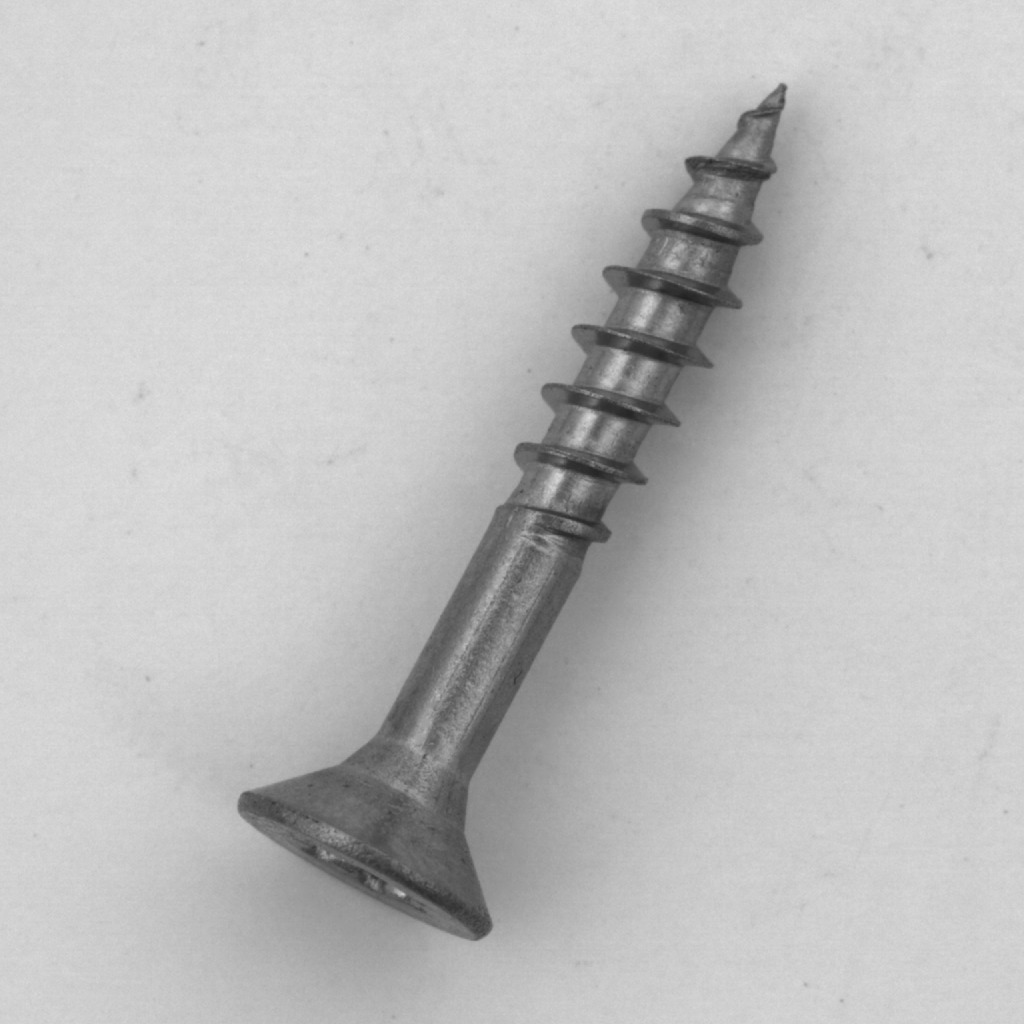good: (220, 69, 809, 960)
